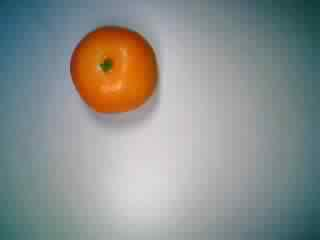orange: (62, 21, 158, 117)
